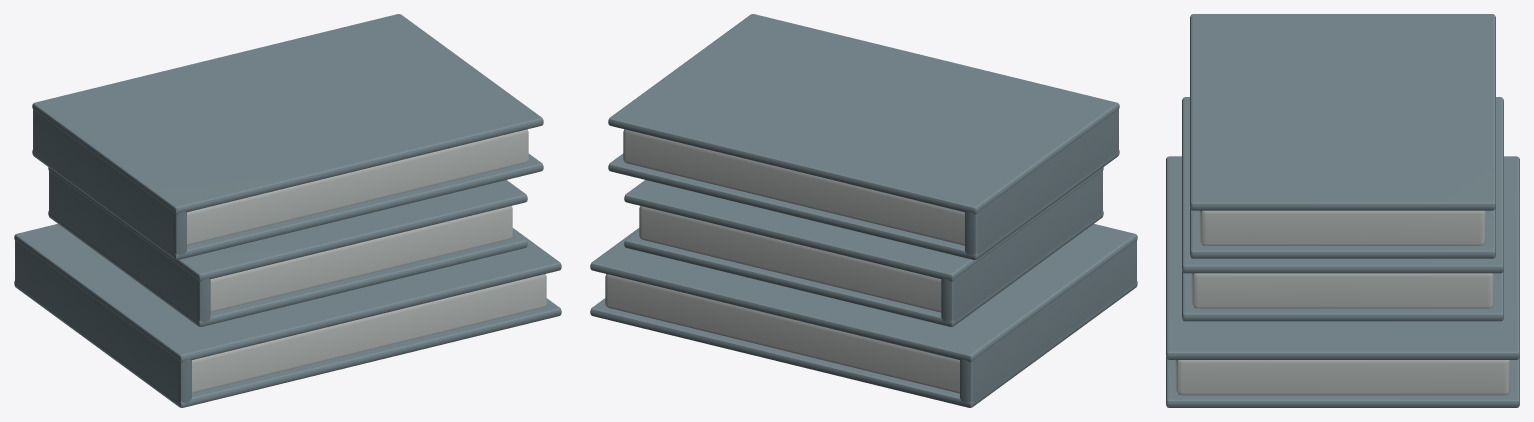
The model's file is book-stack.glb.
3 renders of one model, left to right at view 1: azimuth 30°, elevation 25°; view 2: azimuth 150°, elevation 25°; view 3: azimuth 270°, elevation 25°, orthographic. The views are drawn at different scales.
Visible parts, largest first — view 1: book_cover_2.001, book_cover_0.001, book_pages_0, book_pages_2, book_pages_1, book_cover_1.001, book_spine_0, book_spine_1, book_spine_2, book_cover_0, book_cover_2, book_cover_1; view 2: book_cover_2.001, book_cover_0.001, book_pages_0, book_pages_2, book_pages_1, book_cover_1.001, book_spine_0, book_spine_1, book_spine_2, book_cover_0, book_cover_2, book_cover_1; view 3: book_cover_2.001, book_cover_0.001, book_pages_0, book_pages_1, book_pages_2, book_cover_1.001, book_cover_0, book_cover_1, book_cover_2.
Part boxes in pixels (x1,y1,x2,y2): book_cover_2.001: [32, 14, 543, 214]; book_cover_0.001: [14, 224, 561, 362]; book_pages_0: [192, 274, 546, 393]; book_pages_2: [187, 129, 528, 245]; book_pages_1: [210, 206, 512, 312]; book_cover_1.001: [48, 167, 527, 281]; book_spine_0: [15, 241, 191, 403]; book_spine_1: [49, 171, 210, 322]; book_spine_2: [33, 109, 186, 255]; book_cover_0: [14, 281, 561, 407]; book_cover_2: [32, 150, 543, 259]; book_cover_1: [48, 211, 527, 326]; book_cover_2.001: [608, 14, 1119, 214]; book_cover_0.001: [590, 224, 1137, 362]; book_pages_0: [605, 274, 959, 393]; book_pages_2: [623, 129, 964, 245]; book_pages_1: [639, 206, 941, 312]; book_cover_1.001: [624, 167, 1103, 281]; book_spine_0: [960, 241, 1136, 403]; book_spine_1: [941, 171, 1102, 322]; book_spine_2: [965, 109, 1118, 256]; book_cover_0: [590, 281, 1137, 407]; book_cover_2: [608, 150, 1119, 259]; book_cover_1: [624, 211, 1103, 326]; book_cover_2.001: [1190, 14, 1495, 210]; book_cover_0.001: [1166, 156, 1519, 359]; book_pages_0: [1175, 360, 1510, 395]; book_pages_1: [1191, 273, 1494, 308]; book_pages_2: [1199, 210, 1486, 245]; book_cover_1.001: [1182, 97, 1503, 273]; book_cover_0: [1166, 357, 1519, 407]; book_cover_1: [1182, 270, 1503, 321]; book_cover_2: [1190, 208, 1495, 258].
Size of the model in its own units: 0.29 by 0.139 by 0.22.
